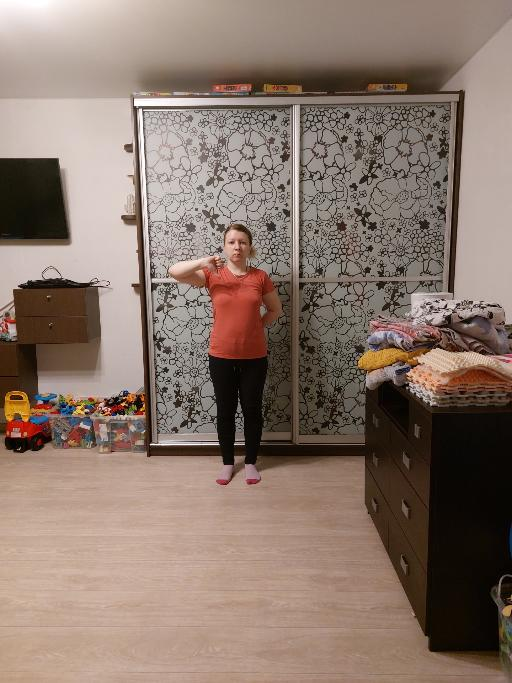dislike: (203, 253, 225, 280)
